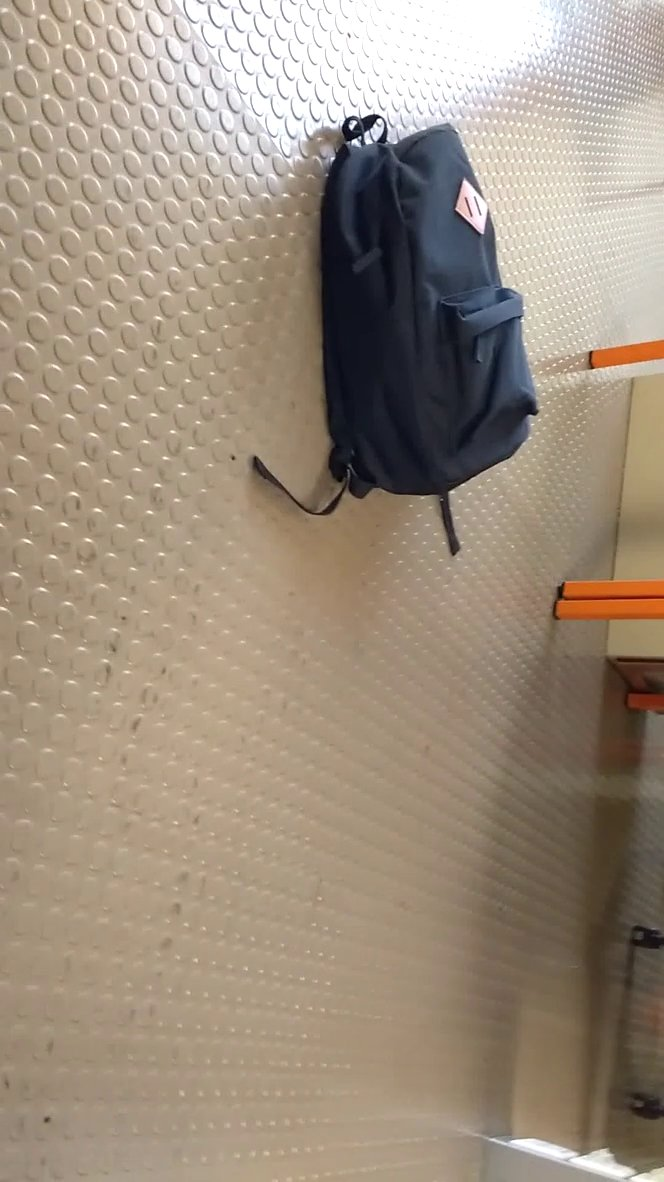bag: (246, 119, 565, 568)
